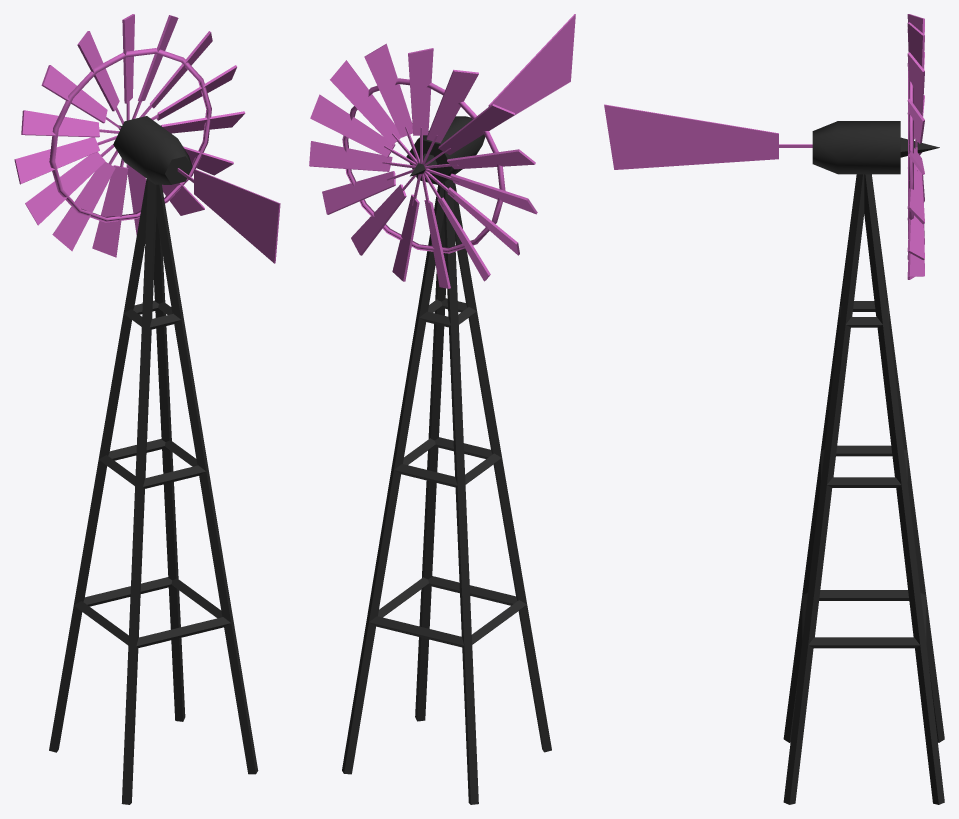
The model's file is Windmill.FBX.
The picture shows the model from 3 angles, left to right: view 1: azimuth 30°, elevation 25°; view 2: azimuth 150°, elevation 25°; view 3: azimuth 270°, elevation 25°; orthographic projection. The views are drawn at different scales.
Parts seen in each view (by area): view 1: Pyramid001, Box036, Cylinder015; view 2: Pyramid001, Box036, Cylinder015; view 3: Pyramid001, Cylinder015, Box036.
Boxes of the visible parts, x1=… form: Pyramid001: x1=49, y1=179, x2=258, y2=804; Box036: x1=14, y1=14, x2=245, y2=257; Cylinder015: x1=113, y1=116, x2=280, y2=263; Pyramid001: x1=342, y1=179, x2=551, y2=804; Box036: x1=309, y1=43, x2=537, y2=288; Cylinder015: x1=406, y1=14, x2=575, y2=184; Pyramid001: x1=783, y1=174, x2=944, y2=804; Cylinder015: x1=604, y1=104, x2=939, y2=174; Box036: x1=907, y1=14, x2=924, y2=279.
Bounding box in the file's own units: 88.91 × 275 × 114.
